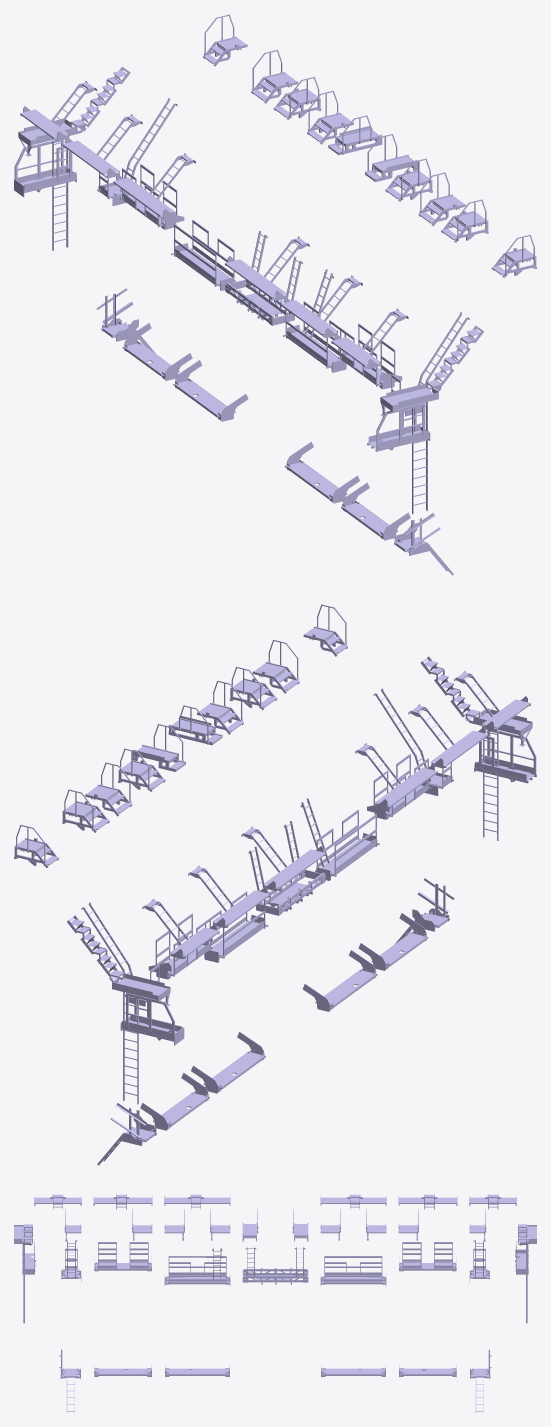
The model's file is Access-Platforms-Even-Sectors-cut2.glb.
3 renders of one model, top to bottom at view 1: azimuth 30°, elevation 25°; view 2: azimuth 150°, elevation 25°; view 3: azimuth 270°, elevation 25°, orthographic. The views are drawn at different scales.
Parts seen in each view (by area): view 1: S__00000216558D5CA0; view 2: S__00000216558D5CA0; view 3: S__00000216558D5CA0.
Part boxes in pixels (x1,y1,x2,y2): S__00000216558D5CA0: (14,14,536,575); S__00000216558D5CA0: (14,604,536,1165); S__00000216558D5CA0: (14,1194,536,1412).
Bounding box in the file's own units: 7.18 × 10.93 × 22.96.
